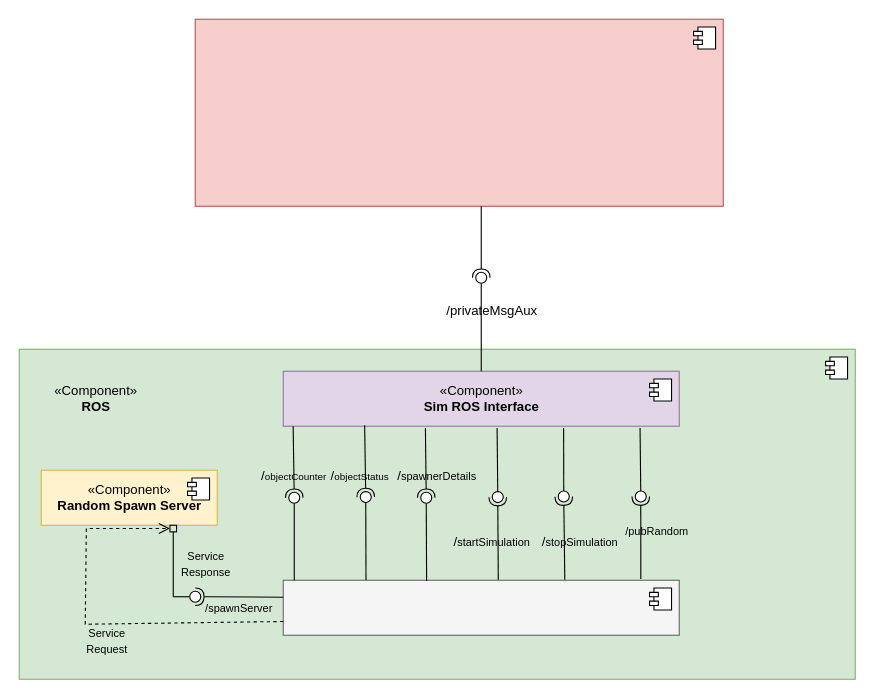
Image size: 875x699. Some labels were removed from this diagram. The shapes that lost their labels are listed below. From the top down, each one's centre as x and y in pixels, then its label:
At (458,112): "«Component» Coppeliasim".
At (480,607): "«Component» VREP User Interface".
